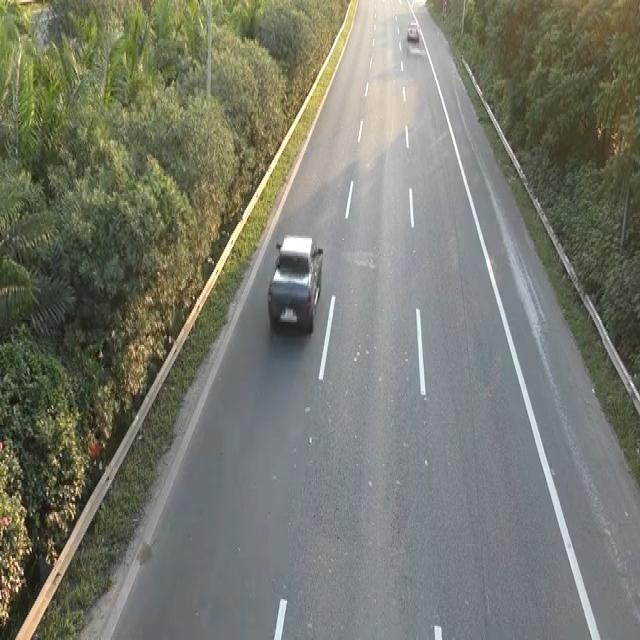car: (266, 231, 324, 334)
